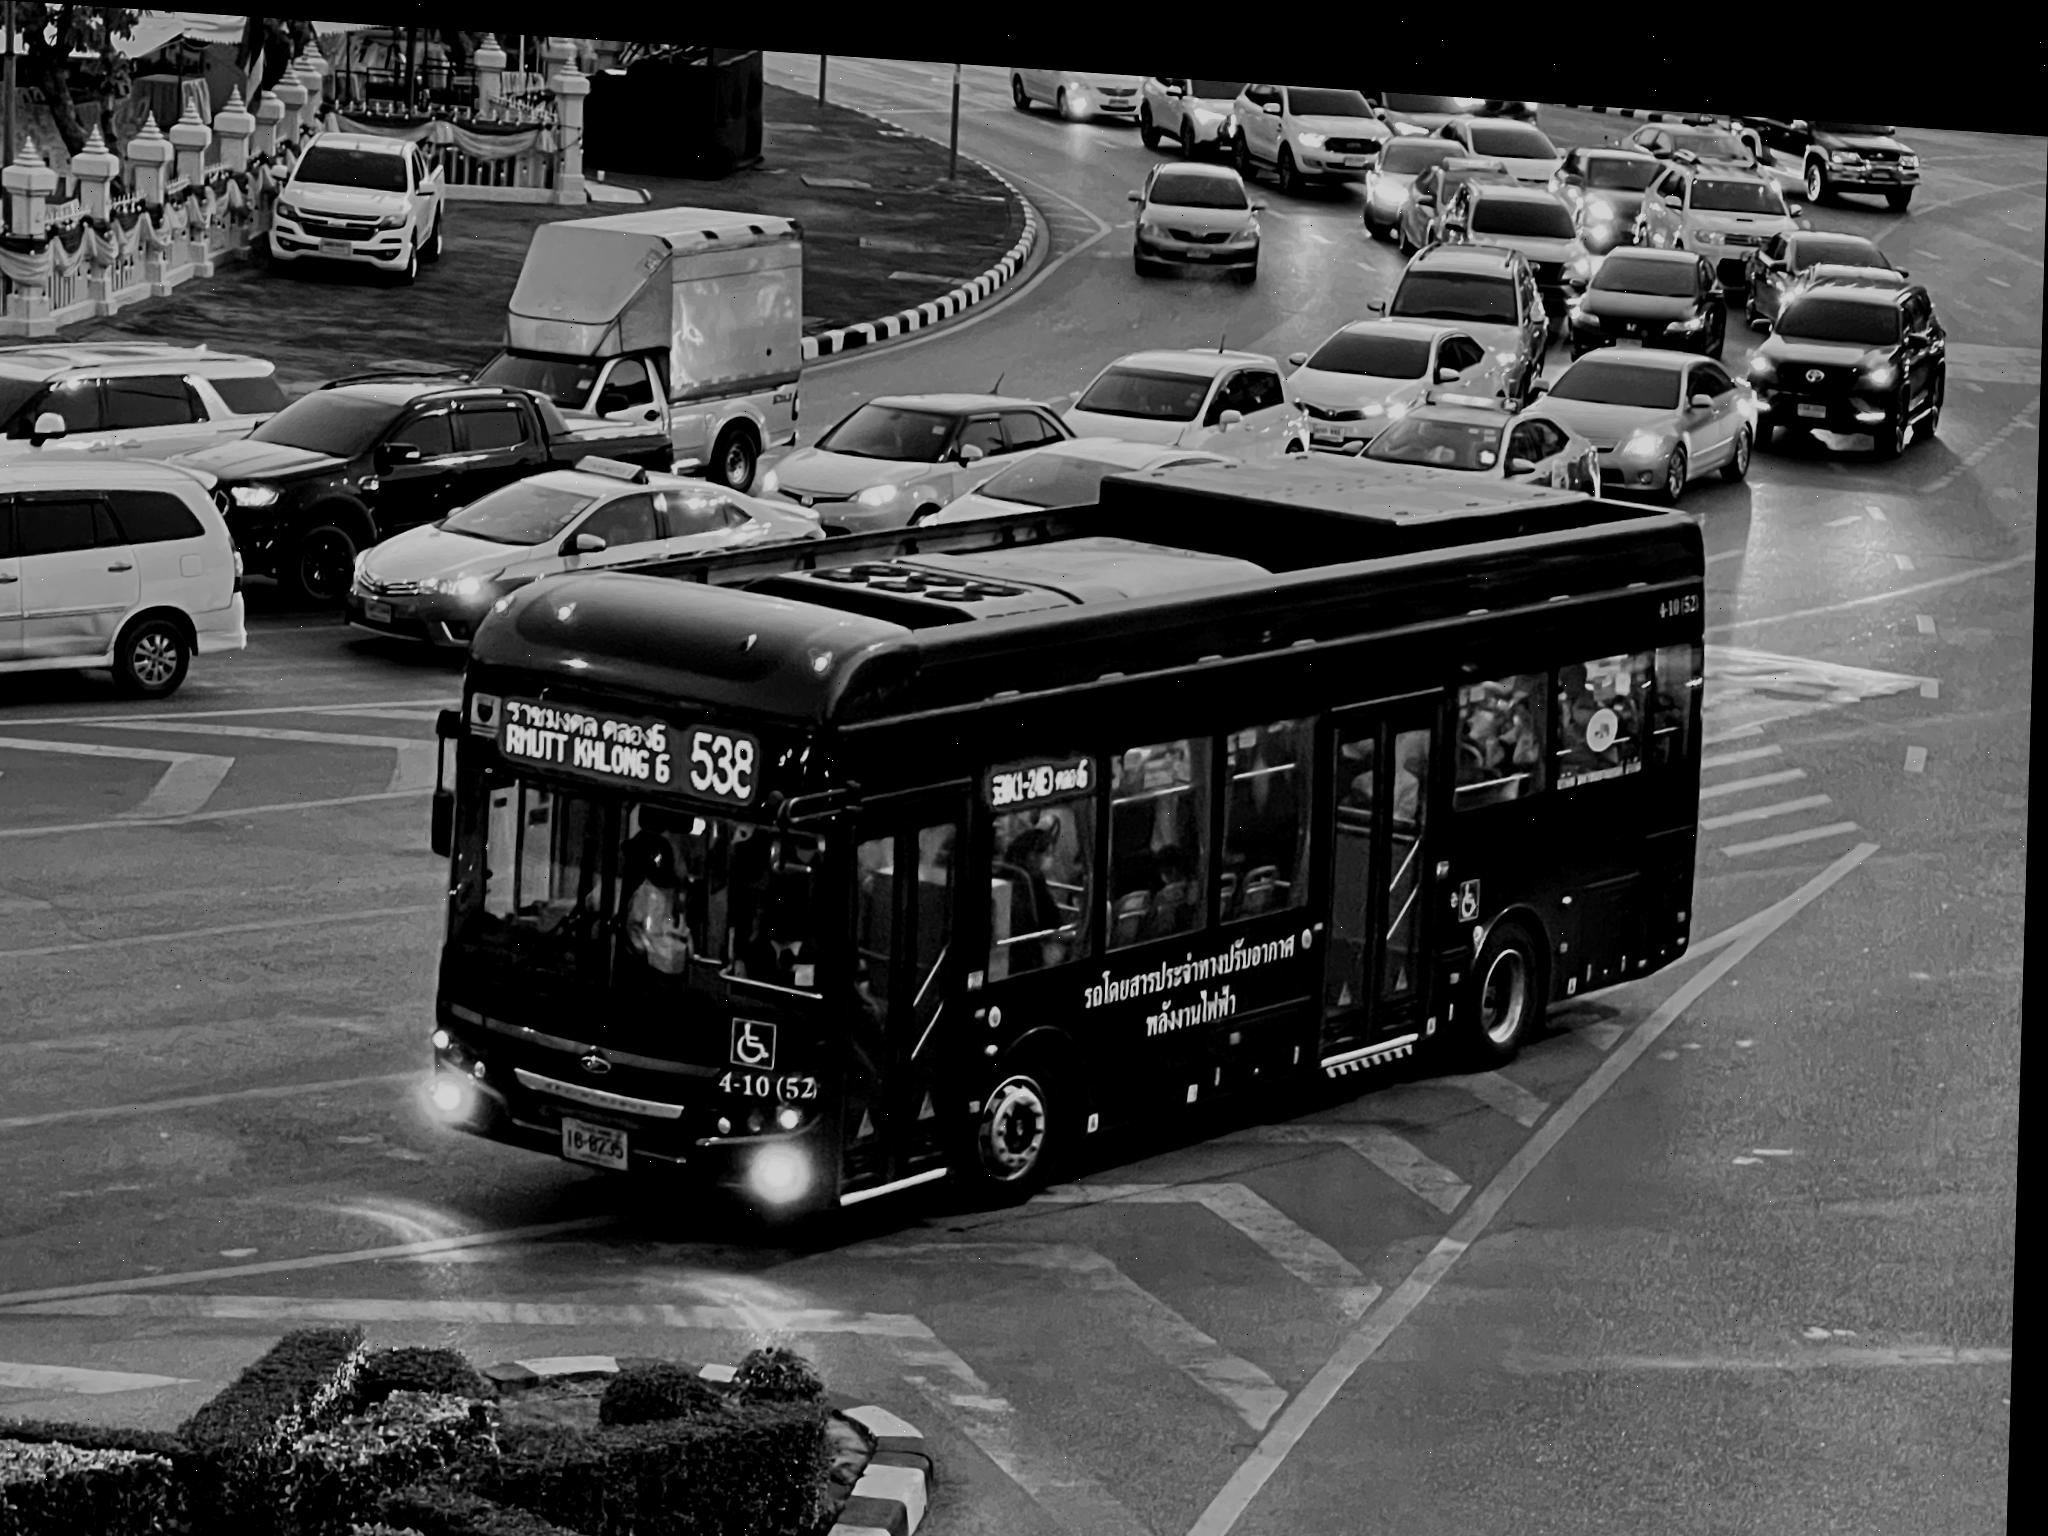Bus Line Number: (689, 710, 769, 797)
Bus Side Number: (718, 1054, 835, 1099)
Destination Sign: (502, 684, 685, 787)
TSB-Bus: (423, 439, 1716, 1218)
